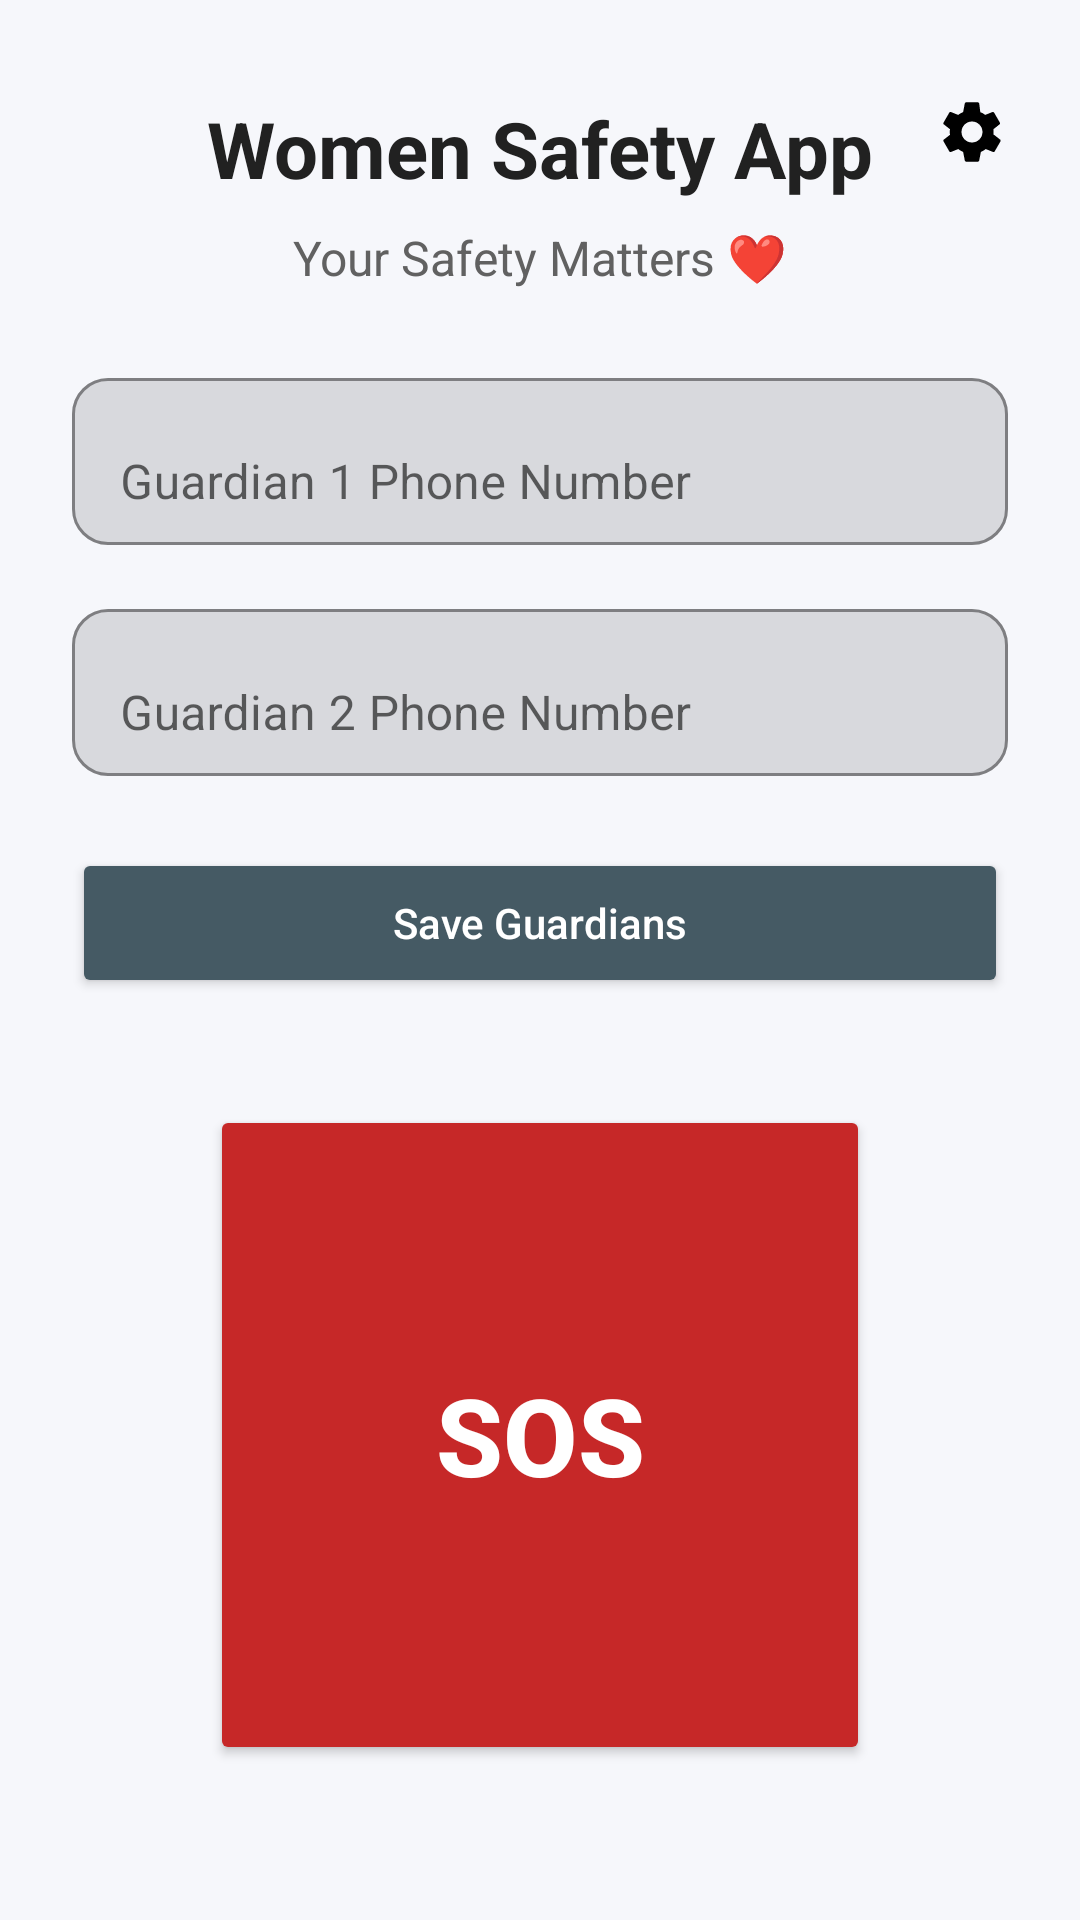

Icons on this 1080x1920 Android screen, each with its box as (x1, y1, x2, y2):
Settings: (943, 102, 1001, 162)
